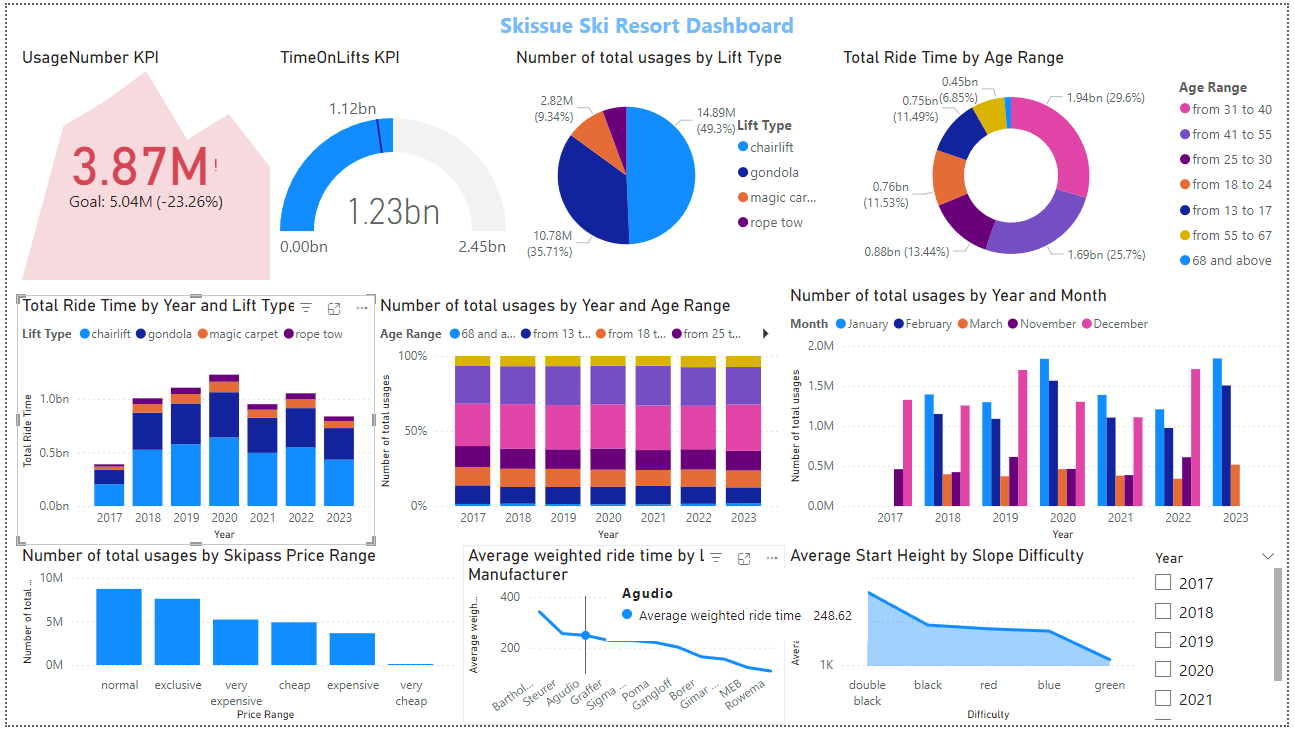

The dashboard page shown, as its layout file describes it:
{"tool":"powerbi","page":{"name":"Page 1","canvas":[1280,720],"ordinal":0},"visuals":[{"type":"kpi","title":"UsageNumber KPI","fields":{"TrendLine":["Date.Year"],"Indicator":["Ski Lift Usage.___UsageNumber Value"],"Goal":["Ski Lift Usage.UsageNumber Goal"]},"box":[9.7,41.8,258.7,238.3],"z":0},{"type":"gauge","title":"TimeOnLifts KPI","fields":{"TargetValue":["Ski Lift Usage.TimeOnLifts Goal"],"Y":["Ski Lift Usage.___TimeOnLifts Value"]},"box":[268.4,41.8,235.4,238.3],"z":1000},{"type":"columnChart","fields":{"Y":["Ski Lift Usage.Total Ride Time"],"Category":["Date.Year"],"Series":["Ski Lift.Lift Type"]},"box":[9.7,289.8,357.9,250],"z":2000},{"type":"hundredPercentStackedColumnChart","fields":{"Category":["Date.Year"],"Series":["Customers.Age Range"],"Y":["Ski Lift Usage.Number of total usages"]},"box":[367.7,289.8,410.5,250],"z":3000},{"type":"pieChart","fields":{"Y":["Ski Lift Usage.Number of total usages"],"Category":["Ski Lift.Lift Type"]},"box":[503.8,41.8,326.8,238.3],"z":4000},{"type":"donutChart","fields":{"Y":["Ski Lift Usage.Total Ride Time"],"Category":["Customers.Age Range"]},"box":[830.6,41.8,449.4,238.3],"z":5000},{"type":"clusteredColumnChart","fields":{"Y":["Ski Lift Usage.Number of total usages"],"Category":["Date.Year"],"Series":["Date.Month"]},"box":[778.1,280.1,501.9,259.7],"z":6000},{"type":"columnChart","title":"Number of total usages by Skipass Price Range","fields":{"Category":["Ski Pass.Price Range"],"Y":["Ski Lift Usage.Number of total usages"]},"box":[9.7,539.8,446.4,179.9],"z":7000},{"type":"textbox","box":[434.8,0,410.5,41.8],"z":8000},{"type":"lineChart","fields":{"Y":["Measures.Average weighted ride time"],"Category":["Ski Lift.Lift Manufacturer"]},"box":[456,540,322,180],"z":9000},{"type":"areaChart","title":"Average Start Height by Slope Difficulty","fields":{"Y":["Measures.Average SL altitude"],"Category":["Ski Slope.Difficulty"]},"box":[778.1,539.8,357,179.9],"z":10000},{"type":"slicer","fields":{"Values":["Date.Year"]},"box":[1135.1,539.8,144.9,179.9],"z":10001}]}

Visuals, with their boxes in screenshot pixels (x1, y1, x2, y2), scaled from the page's 1280x720 canvas onto the 1295x729 screenshot:
"UsageNumber KPI" kpi: l=10, t=42, r=272, b=284
"TimeOnLifts KPI" gauge: l=272, t=42, r=510, b=284
columnChart - Ski Lift Usage.Total Ride Time x Date.Year: l=10, t=293, r=372, b=547
hundredPercentStackedColumnChart - Date.Year x Customers.Age Range: l=372, t=293, r=787, b=547
pieChart - Ski Lift Usage.Number of total usages x Ski Lift.Lift Type: l=510, t=42, r=840, b=284
donutChart - Ski Lift Usage.Total Ride Time x Customers.Age Range: l=840, t=42, r=1294, b=284
clusteredColumnChart - Ski Lift Usage.Number of total usages x Date.Year: l=787, t=284, r=1294, b=547
"Number of total usages by Skipass Price Range" columnChart: l=10, t=547, r=461, b=728
textbox: l=440, t=0, r=855, b=42
lineChart - Measures.Average weighted ride time x Ski Lift.Lift Manufacturer: l=461, t=547, r=787, b=728
"Average Start Height by Slope Difficulty" areaChart: l=787, t=547, r=1148, b=728
slicer - Date.Year: l=1148, t=547, r=1294, b=728
